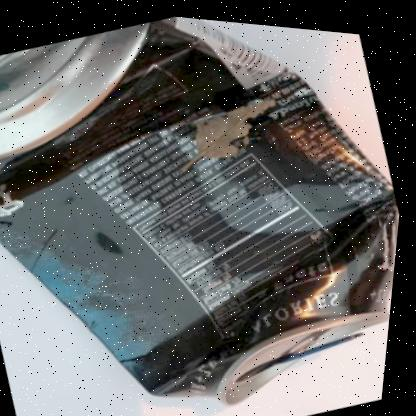Metal: (0, 13, 402, 400)
